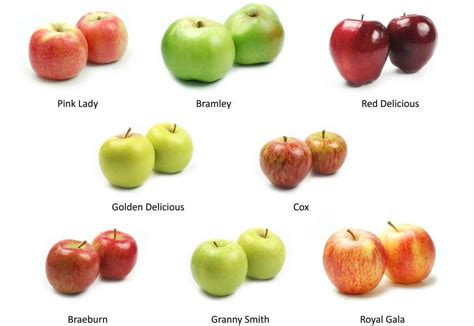apple: (160, 11, 237, 87), (321, 229, 390, 296), (330, 12, 389, 87), (221, 1, 286, 66), (376, 225, 438, 287), (98, 127, 157, 191), (385, 11, 440, 79), (188, 237, 248, 299), (43, 237, 101, 297), (29, 22, 86, 83), (74, 10, 131, 67), (259, 134, 313, 193), (144, 121, 196, 177), (88, 227, 138, 285), (237, 227, 286, 283), (302, 127, 349, 179)
